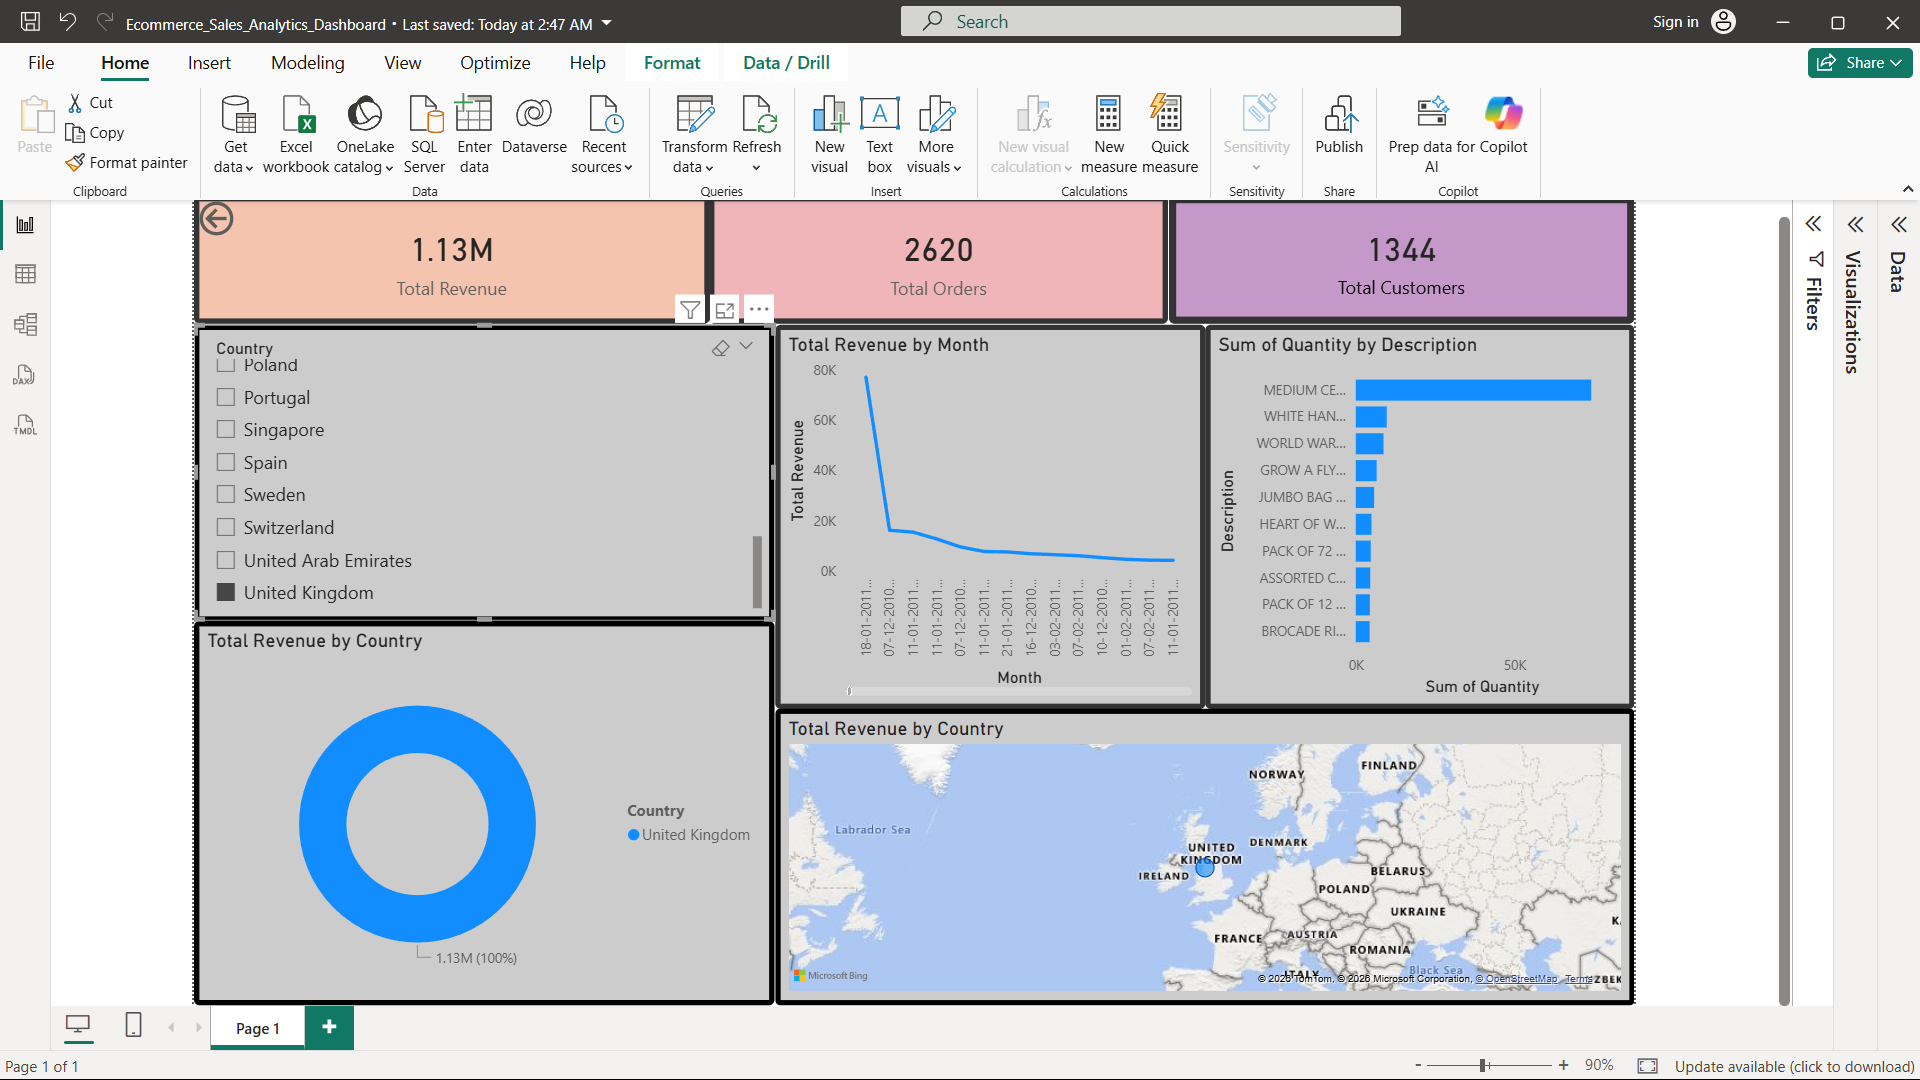

This screenshot's page, from the dashboard's own definition file:
{"tool":"powerbi","page":{"name":"Page 1","canvas":[1280,720],"ordinal":0},"visuals":[{"type":"card","fields":{"Values":["ecommerce_db ecommerce_sales.Total Customers"]},"box":[866.3,0,414,114],"z":0},{"type":"card","fields":{"Values":["ecommerce_db ecommerce_sales.Total Orders"]},"box":[458.1,0,408.1,114],"z":1000},{"type":"card","fields":{"Values":["ecommerce_db ecommerce_sales.Total Revenue"]},"box":[0,0,458.1,114],"z":2000},{"type":"lineChart","fields":{"Category":["ecommerce_db ecommerce_sales.Month"],"Y":["ecommerce_db ecommerce_sales.Total Revenue"]},"box":[516.3,114,382.6,341.9],"z":3000},{"type":"clusteredBarChart","fields":{"Category":["ecommerce_db ecommerce_sales.Description"],"Y":["Sum(ecommerce_db ecommerce_sales.Quantity)"]},"box":[898.8,114,381.4,341.9],"z":4000},{"type":"map","fields":{"Category":["ecommerce_db ecommerce_sales.Country"],"Size":["ecommerce_db ecommerce_sales.Total Revenue"]},"box":[516.3,455.8,764,264],"z":5000},{"type":"donutChart","fields":{"Category":["ecommerce_db ecommerce_sales.Country"],"Y":["ecommerce_db ecommerce_sales.Total Revenue"]},"box":[0,377.9,516.3,341.9],"z":5001},{"type":"slicer","fields":{"Values":["ecommerce_db ecommerce_sales.Country"]},"box":[0,114,516.3,264],"z":5002},{"type":"actionButton","box":[0,0,100,40],"z":5003}]}

Visuals, with their boxes on the page's 1280x720 design canvas (x1, y1, x2, y2). These are canvas units, not pixel positions in the 1920x1080 screenshot, which may show the page scaled, cropped or inside an application window:
card - ecommerce_db ecommerce_sales.Total Customers: <region>866, 0, 1280, 114</region>
card - ecommerce_db ecommerce_sales.Total Orders: <region>458, 0, 866, 114</region>
card - ecommerce_db ecommerce_sales.Total Revenue: <region>0, 0, 458, 114</region>
lineChart - ecommerce_db ecommerce_sales.Month x ecommerce_db ecommerce_sales.Total Revenue: <region>516, 114, 899, 456</region>
clusteredBarChart - ecommerce_db ecommerce_sales.Description x Sum(ecommerce_db ecommerce_sales.Quantity): <region>899, 114, 1280, 456</region>
map - ecommerce_db ecommerce_sales.Country x ecommerce_db ecommerce_sales.Total Revenue: <region>516, 456, 1280, 720</region>
donutChart - ecommerce_db ecommerce_sales.Country x ecommerce_db ecommerce_sales.Total Revenue: <region>0, 378, 516, 720</region>
slicer - ecommerce_db ecommerce_sales.Country: <region>0, 114, 516, 378</region>
actionButton: <region>0, 0, 100, 40</region>
